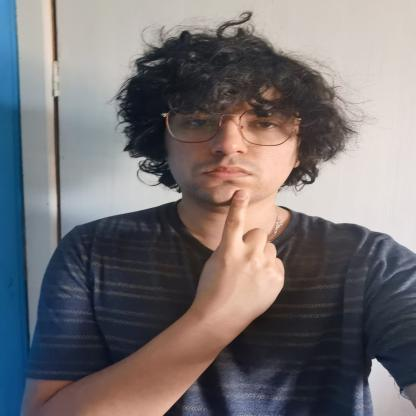T: (194, 189, 286, 335)
